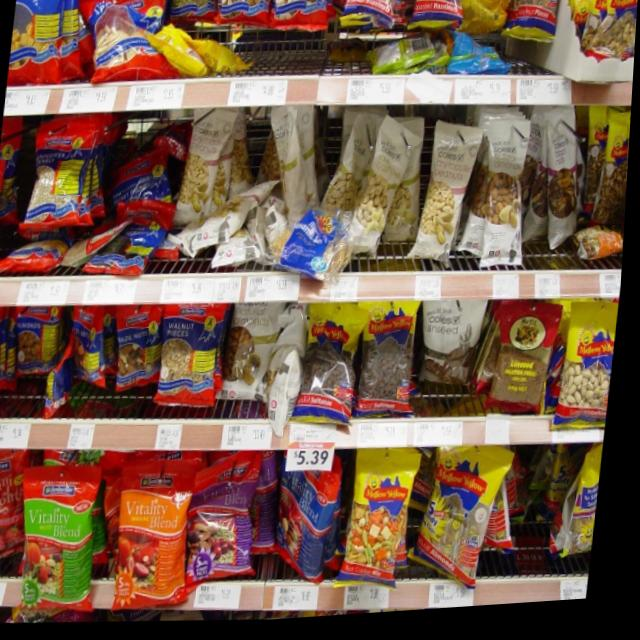q274: (12, 463, 113, 628)
